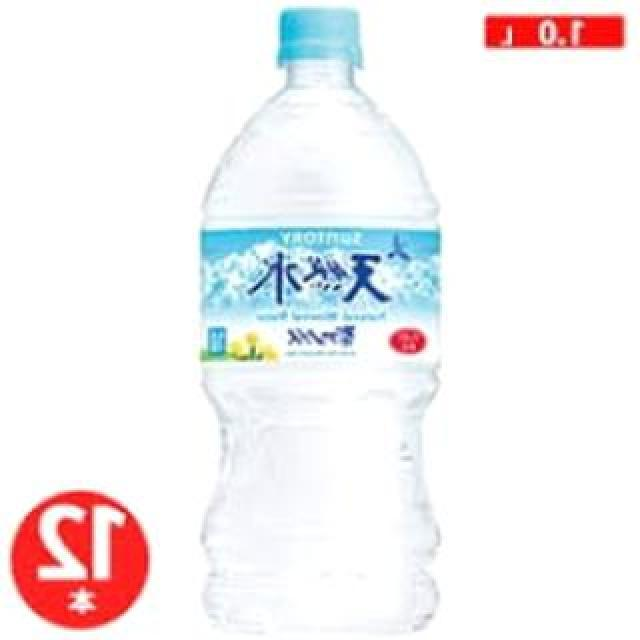Pet_Bottle: (200, 2, 448, 640)
